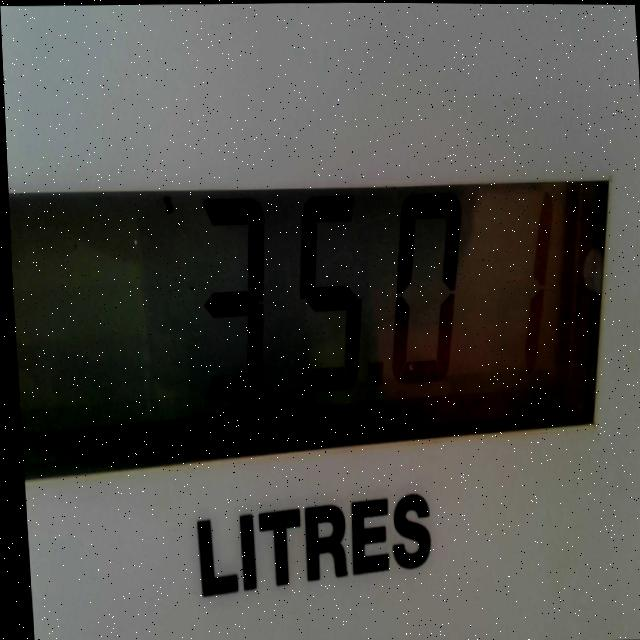.: (362, 355, 382, 385)
0: (383, 189, 463, 389)
1: (513, 189, 561, 379)
3: (192, 197, 274, 396)
5: (289, 196, 362, 396)
